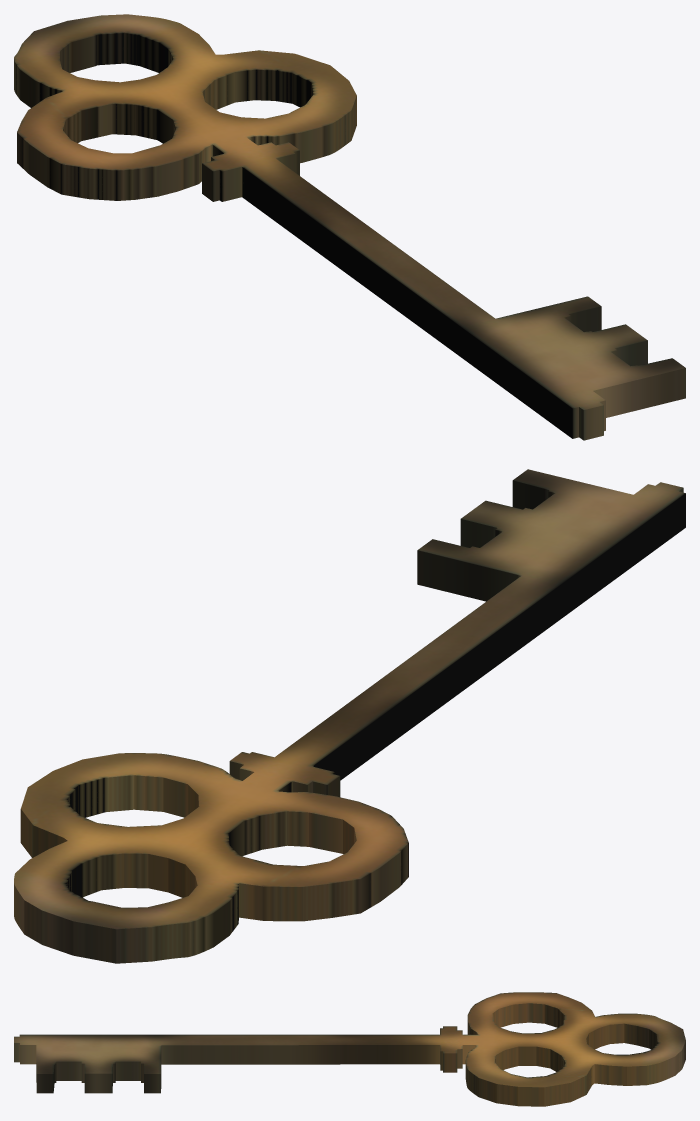
The model's file is Llave.FBX.
3 renders of one model, top to bottom at view 1: azimuth 30°, elevation 25°; view 2: azimuth 150°, elevation 25°; view 3: azimuth 270°, elevation 25°, orthographic. The views are drawn at different scales.
Parts seen in each view (by area): view 1: Line001; view 2: Line001; view 3: Line001.
Part boxes in pixels (x1,y1,x2,y2): Line001: (14,14,685,440); Line001: (14,469,685,963); Line001: (14,992,685,1106).
Size of the model in its own units: 36.37 by 3.45 by 108.
